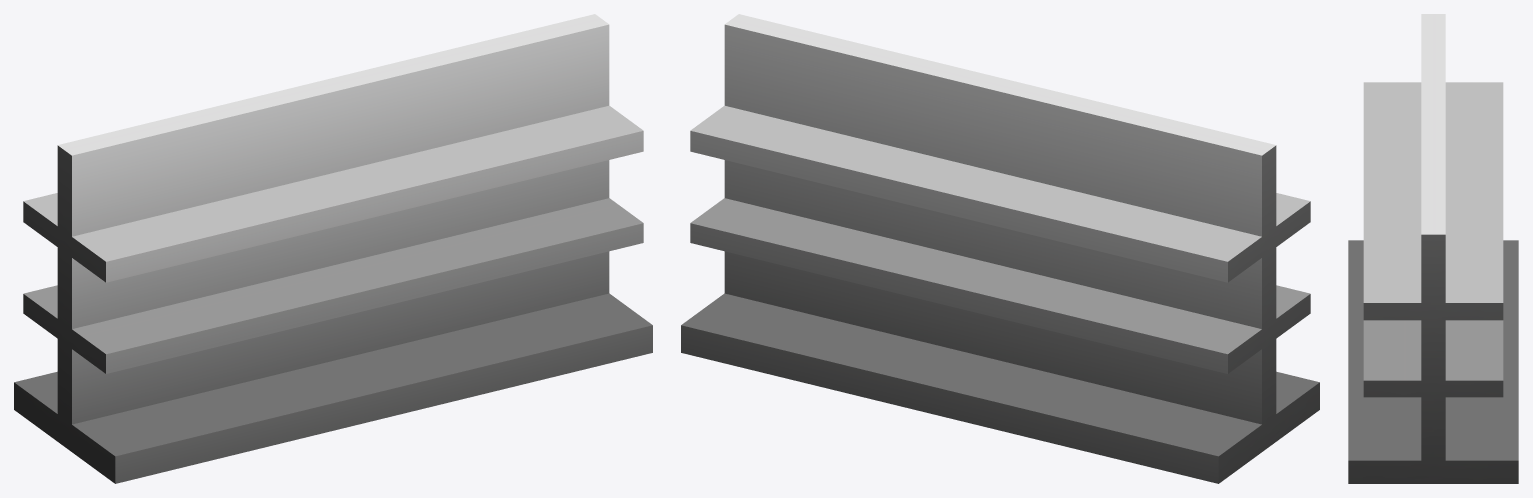
Rendered from shelf type 2.fbx.
3 renders of one model, left to right at view 1: azimuth 30°, elevation 25°; view 2: azimuth 150°, elevation 25°; view 3: azimuth 270°, elevation 25°, orthographic. The views are drawn at different scales.
Parts seen in each view (by area): view 1: shelf 2.1; view 2: shelf 2.1; view 3: shelf 2.1.
Boxes of the visible parts, x1=… form: shelf 2.1: x1=14, y1=14, x2=652, y2=483; shelf 2.1: x1=681, y1=14, x2=1319, y2=483; shelf 2.1: x1=1348, y1=14, x2=1518, y2=483.
Size of the model in its own units: 826 by 435 by 269.
Materials: 1 (1 with a texture image).
